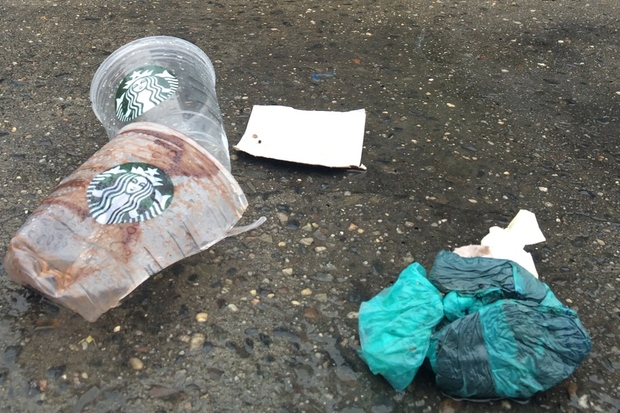cup: (5, 115, 282, 325), (79, 20, 236, 170)
